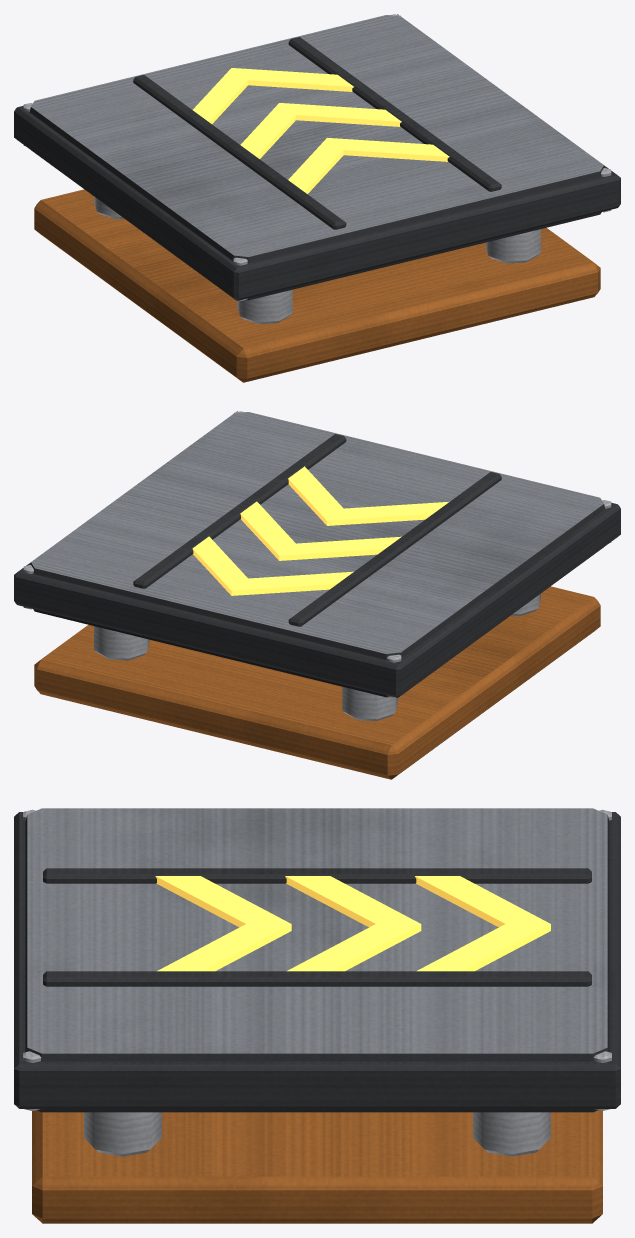
Rendered from R4D_KnockbackTrap.glb.
The picture shows the model from 3 angles, top to bottom: view 1: azimuth 30°, elevation 25°; view 2: azimuth 150°, elevation 25°; view 3: azimuth 270°, elevation 25°; orthographic projection. The views are drawn at different scales.
Visible parts, largest first — view 1: R4D_KnockbackTrap_Plate, R4D_KnockbackTrap_Body; view 2: R4D_KnockbackTrap_Plate, R4D_KnockbackTrap_Body; view 3: R4D_KnockbackTrap_Plate, R4D_KnockbackTrap_Body.
Boxes of the visible parts, x1,y1,x2,y2 form: R4D_KnockbackTrap_Plate: (14,14,620,300); R4D_KnockbackTrap_Body: (34,189,600,382); R4D_KnockbackTrap_Plate: (14,411,620,697); R4D_KnockbackTrap_Body: (34,586,600,779); R4D_KnockbackTrap_Plate: (14,808,620,1112); R4D_KnockbackTrap_Body: (32,1110,602,1223).
Size of the model in its own units: 0.468 by 0.157 by 0.468.
5 materials, 4 textured.
